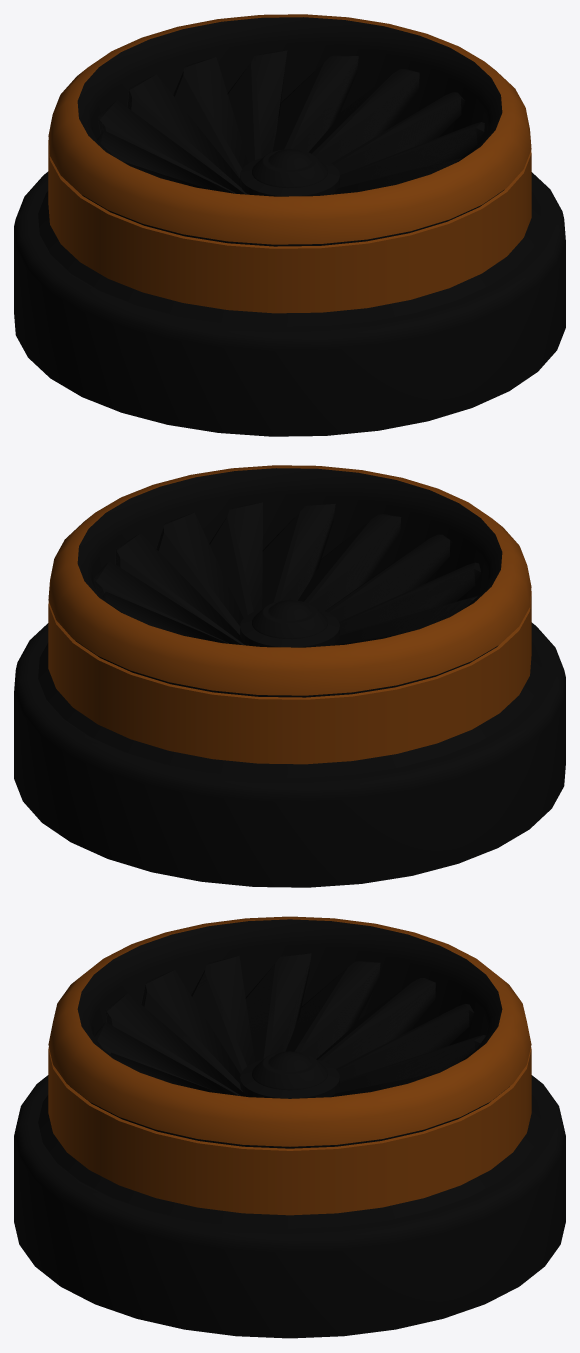
File: Ventilator_Wall_Main.FBX
The picture shows the model from 3 angles, top to bottom: view 1: azimuth 30°, elevation 25°; view 2: azimuth 150°, elevation 25°; view 3: azimuth 270°, elevation 25°; orthographic projection.
Parts seen in each view (by area): view 1: Ventilator_Wall_MAin, Ventilator_Wall_Helix; view 2: Ventilator_Wall_MAin, Ventilator_Wall_Helix; view 3: Ventilator_Wall_MAin, Ventilator_Wall_Helix.
Boxes of the visible parts, <box> form: Ventilator_Wall_MAin: <box>14,14,565,436</box>; Ventilator_Wall_Helix: <box>98,52,482,194</box>; Ventilator_Wall_MAin: <box>14,465,565,887</box>; Ventilator_Wall_Helix: <box>94,504,477,645</box>; Ventilator_Wall_MAin: <box>14,916,565,1338</box>; Ventilator_Wall_Helix: <box>97,955,484,1096</box>.
Bounding box in the file's own units: 5.13 × 2.18 × 5.13.
